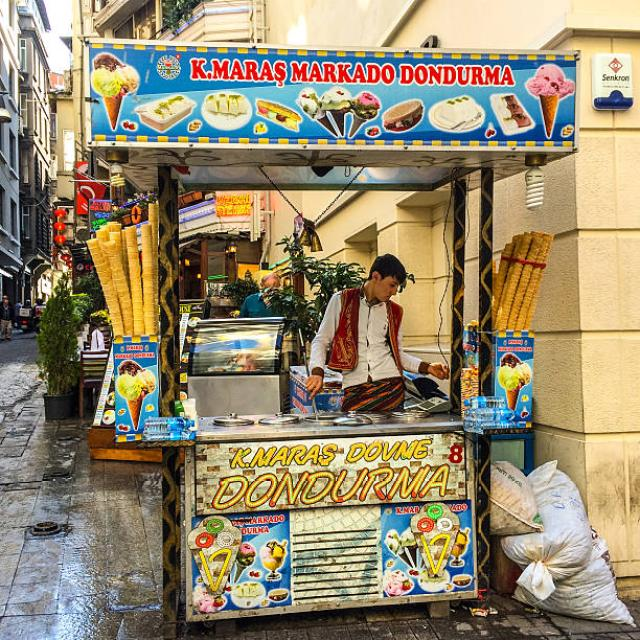Emperan: (64, 22, 592, 640)
